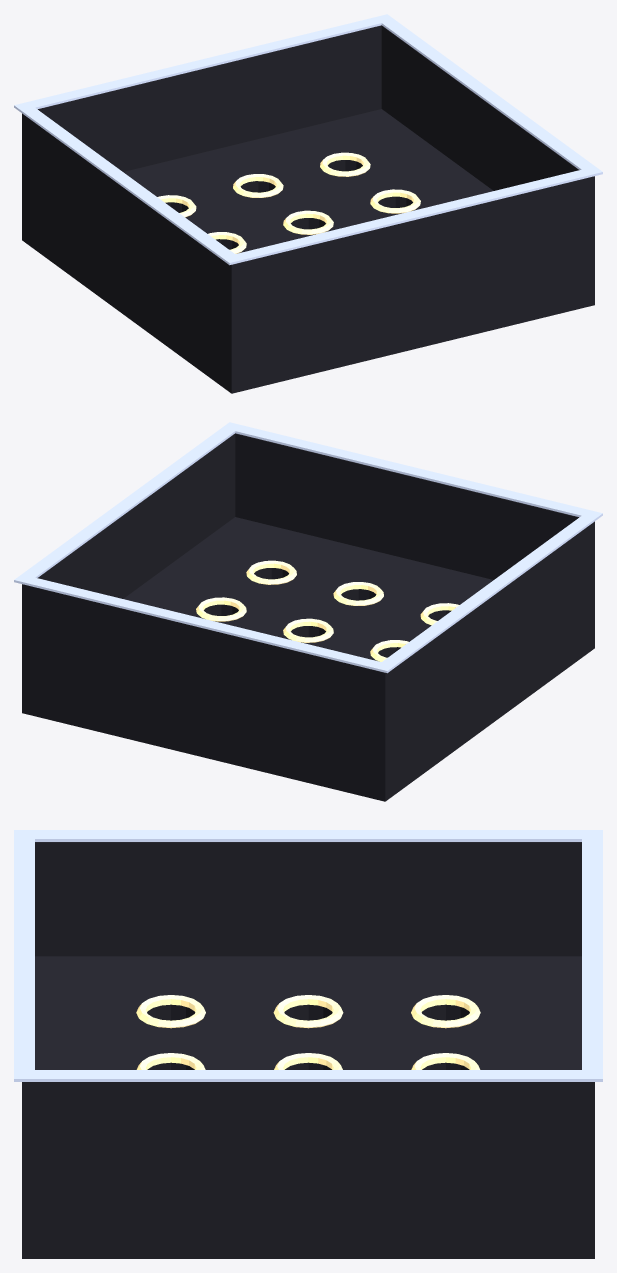
The model's file is part_socket.glb.
3 renders of one model, top to bottom at view 1: azimuth 30°, elevation 25°; view 2: azimuth 150°, elevation 25°; view 3: azimuth 270°, elevation 25°, orthographic. The views are drawn at different scales.
Parts seen in each view (by area): view 1: Wanne, Mund, Kontakte; view 2: Wanne, Mund, Kontakte; view 3: Wanne, Mund, Kontakte.
Part boxes in pixels (x1,y1,x2,y2): Wanne: (22,25,594,393); Mund: (14,14,602,265); Kontakte: (157,152,420,253); Wanne: (22,433,594,801); Mund: (14,422,602,673); Kontakte: (196,560,459,661); Wanne: (22,842,594,1258); Mund: (14,830,602,1081); Kontakte: (136,995,480,1069).
Size of the model in its own units: 0.892 by 0.306 by 0.892.
